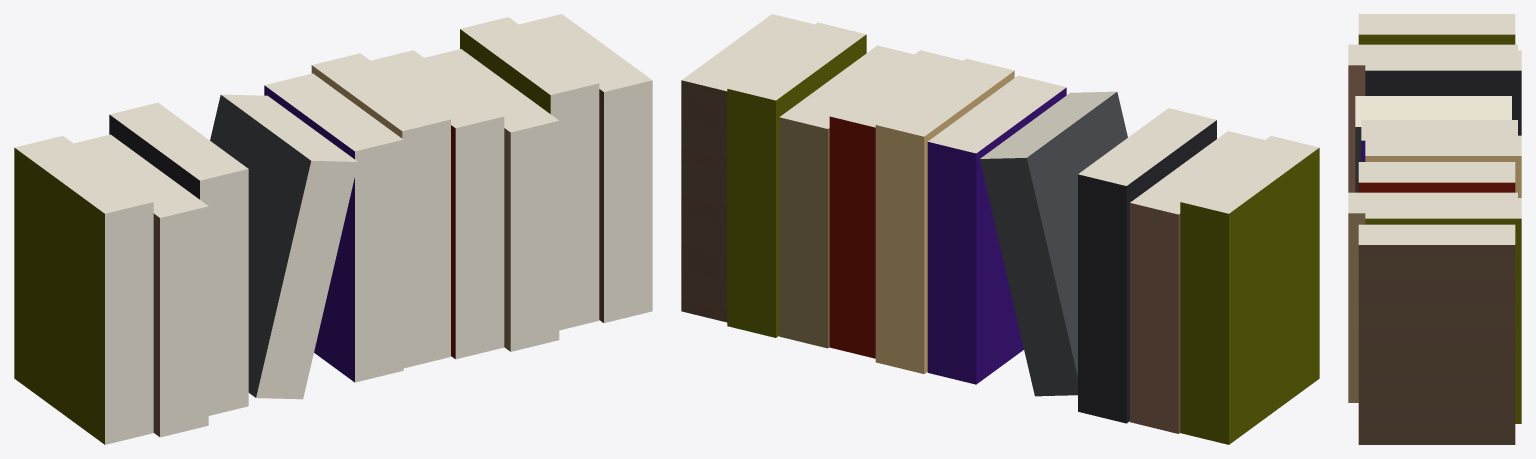
File: Book_9.fbx
The picture shows the model from 3 angles, left to right: view 1: azimuth 30°, elevation 25°; view 2: azimuth 150°, elevation 25°; view 3: azimuth 270°, elevation 25°; orthographic projection. The views are drawn at different scales.
Visible parts, largest first — view 1: pCube784; view 2: pCube784; view 3: pCube784.
Boxes of the visible parts, left/top/right/bottom form: pCube784: left=14, top=14, right=652, bottom=444; pCube784: left=681, top=14, right=1319, bottom=444; pCube784: left=1348, top=14, right=1521, bottom=444.
Bounding box in the file's own units: 84.45 × 35.1 × 26.82.
